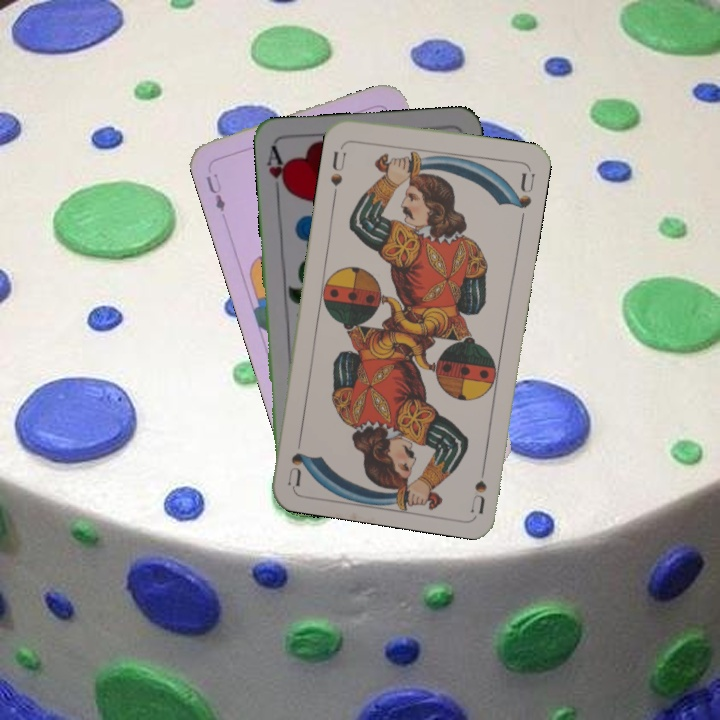EU: (202, 169, 228, 214)
HA: (262, 143, 291, 202)
SU: (466, 454, 489, 514), (326, 139, 351, 189)
